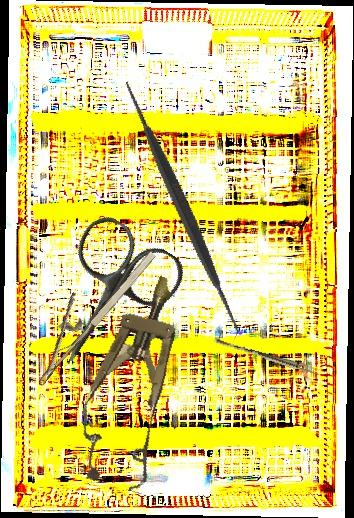Iris Scissors: (22, 208, 192, 390)
Needle Holder: (13, 231, 160, 386)
Spatula Surgical: (41, 66, 323, 350)
Speculum: (64, 265, 205, 496)
Tissue Forceps: (212, 337, 322, 376)
